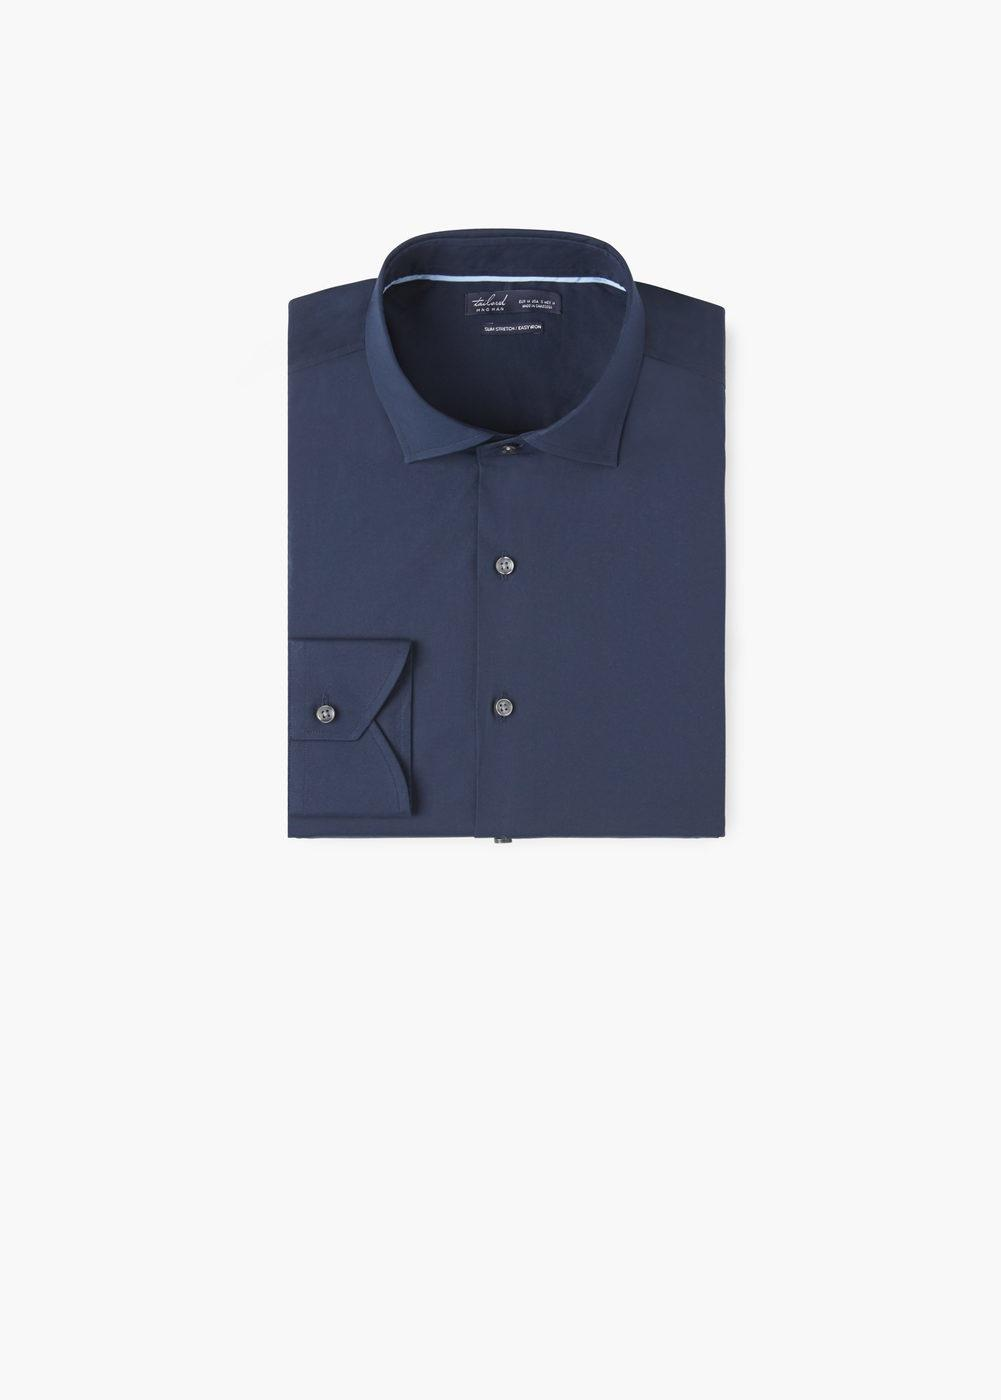teeshirt: (265, 218, 740, 848)
